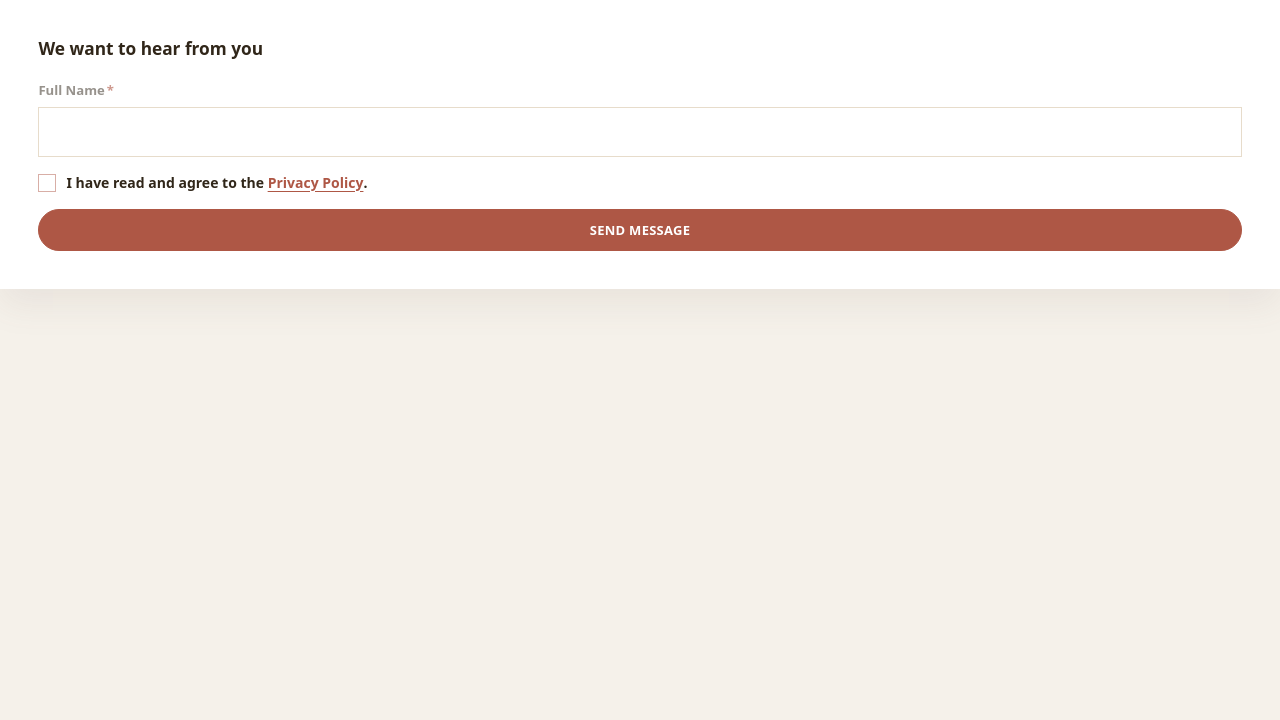
Scenario: ContactForm — privacy consent is ALWAYS mandatory, the Sanity shown/required toggle can no longer waive it › privacyConsent.shown=false AND required=false: checking the (still-rendered) checkbox still allows a real submission through
This screenshot has width=1280, height=720.
Type "Jane" into the field labelled "Full Name*" at (640, 132), box 38,107 -> 1242,156
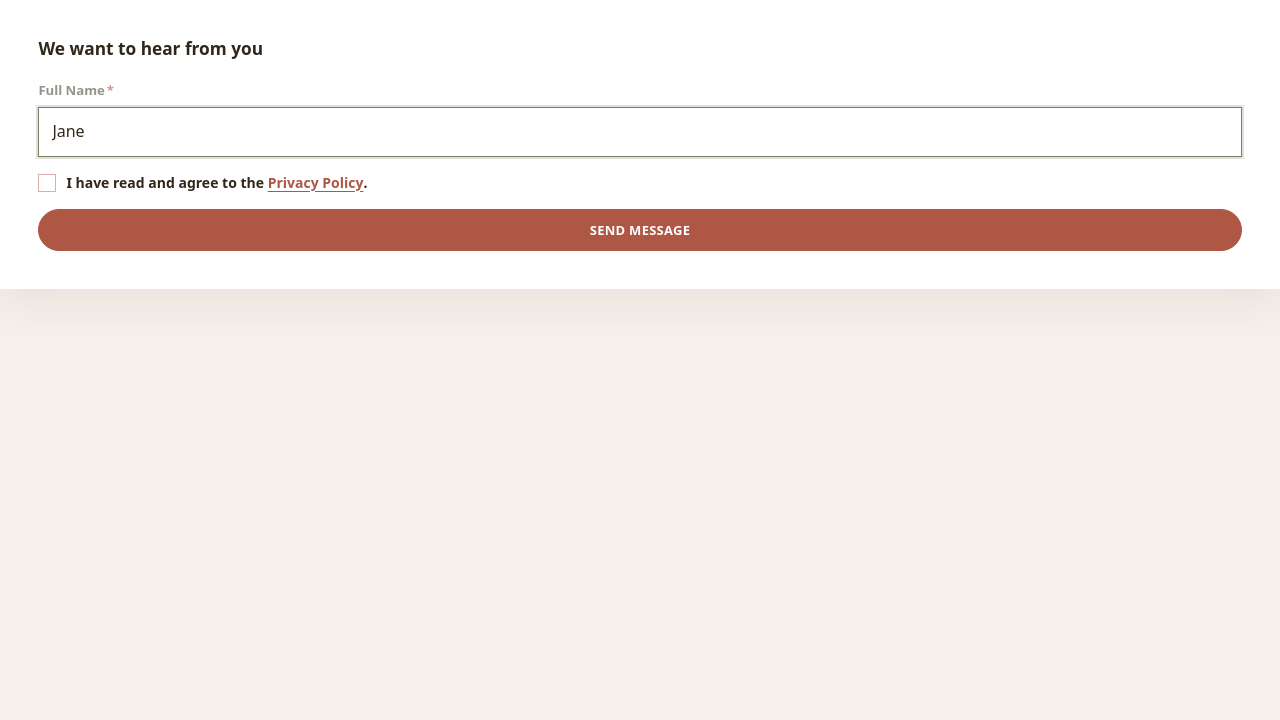
Click the checkbox labelled "I have read and agree to the" at (47, 183), box 38,174 -> 56,192
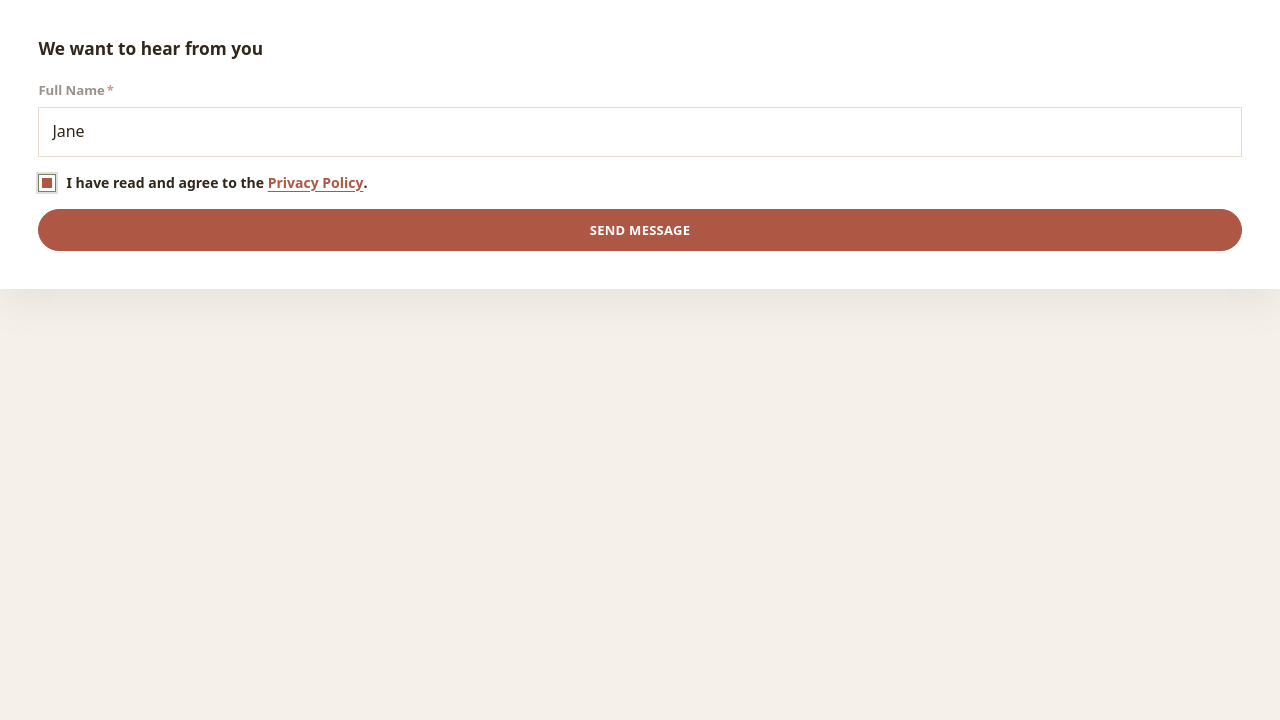
Click the button "Send message" at (640, 230), box 38,209 -> 1242,251
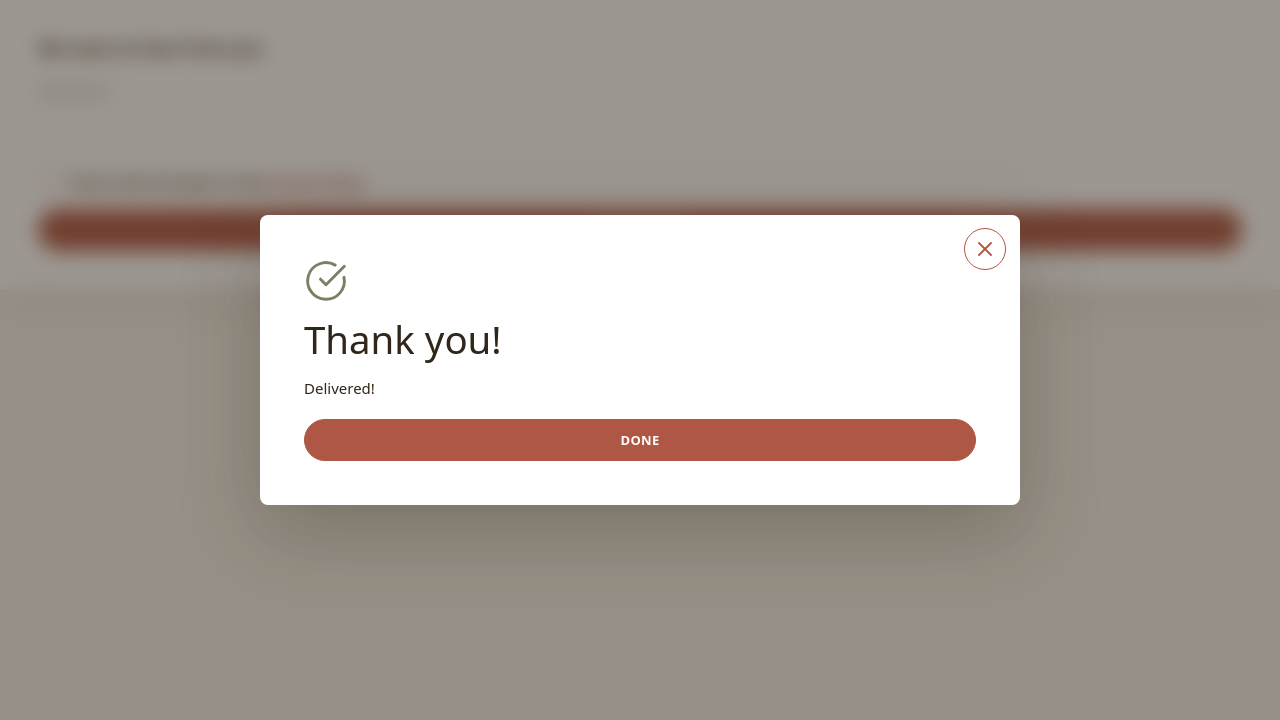
Expected: the dialog is shown, 260,215 -> 1020,505
